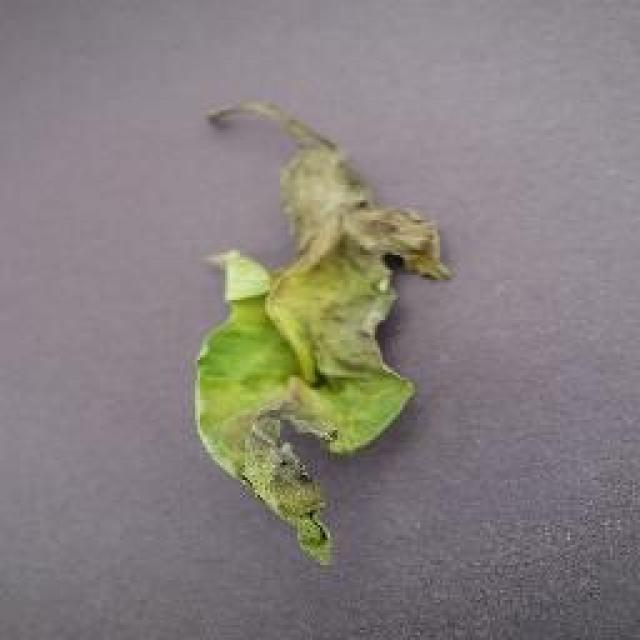Tomato Late Blight: (222, 89, 458, 388)
